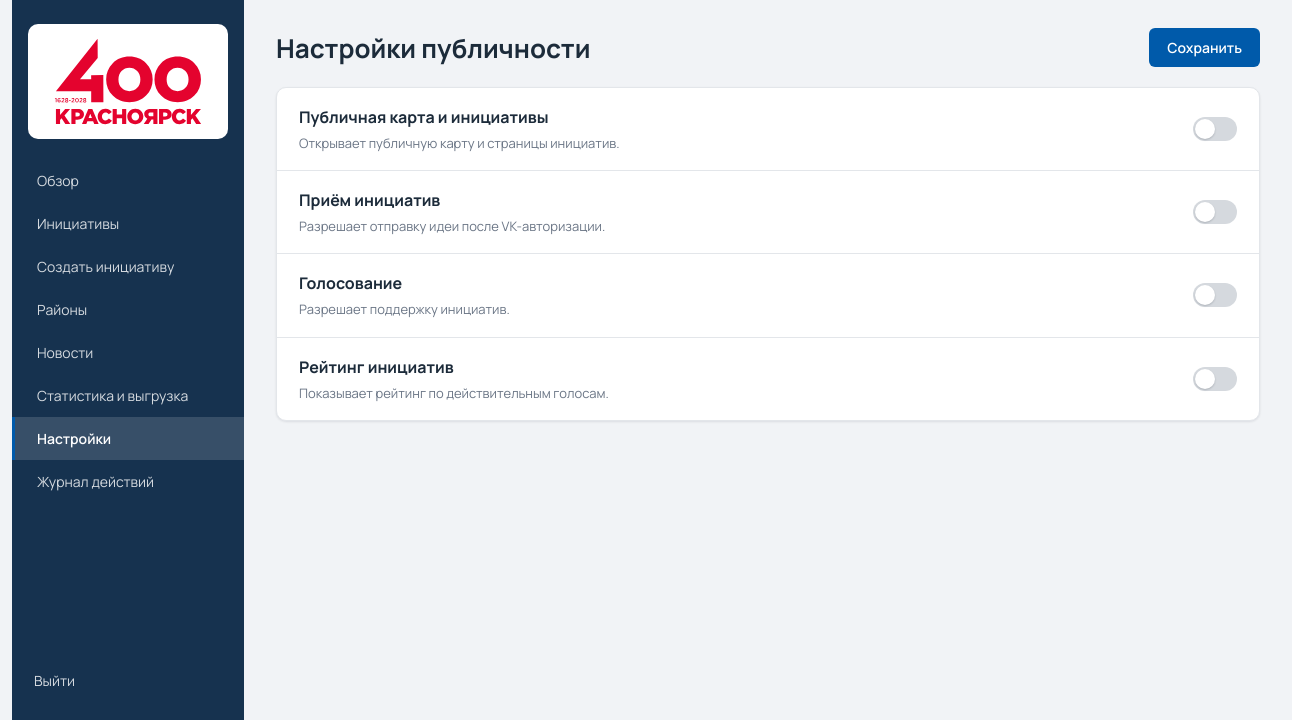
Test: admin settings › keeps chosen values when save fails
Click the switch named "Публичная карта и инициативы".
click(1215, 129)  # box 1193,117 -> 1237,141
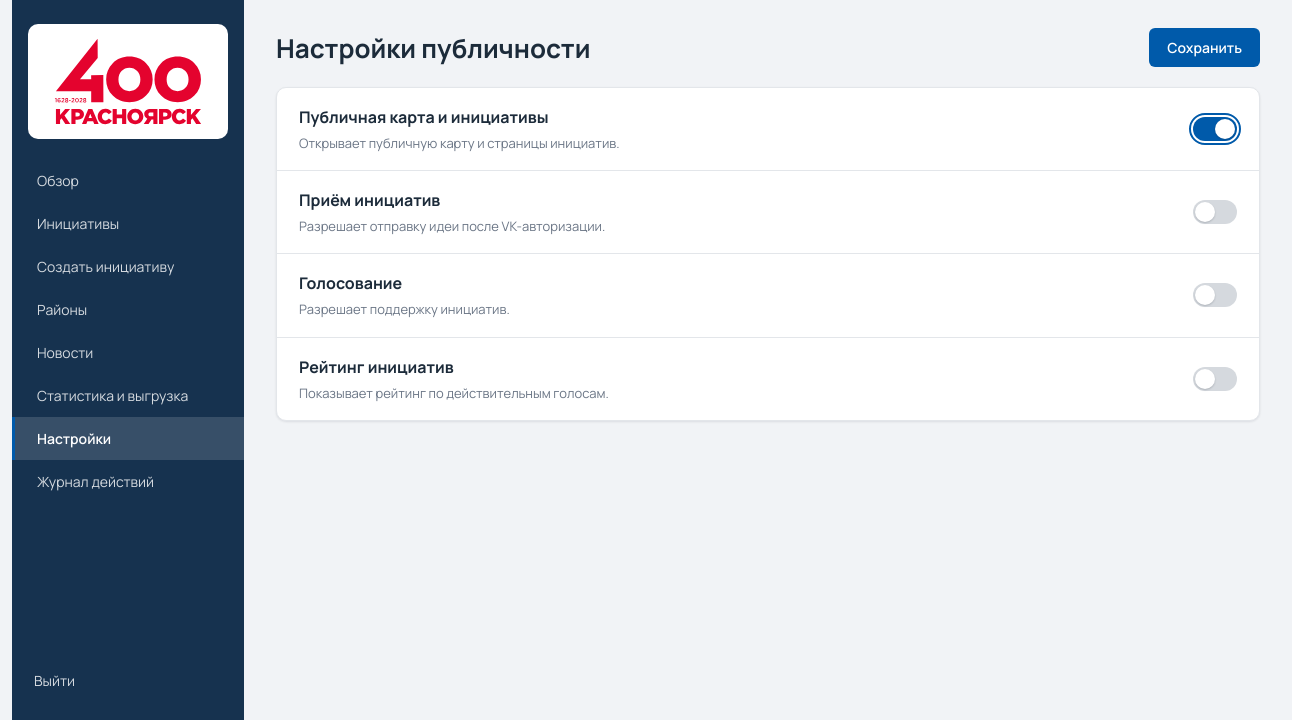
Click the button "Сохранить".
click(1205, 48)  # box 1149,28 -> 1260,67
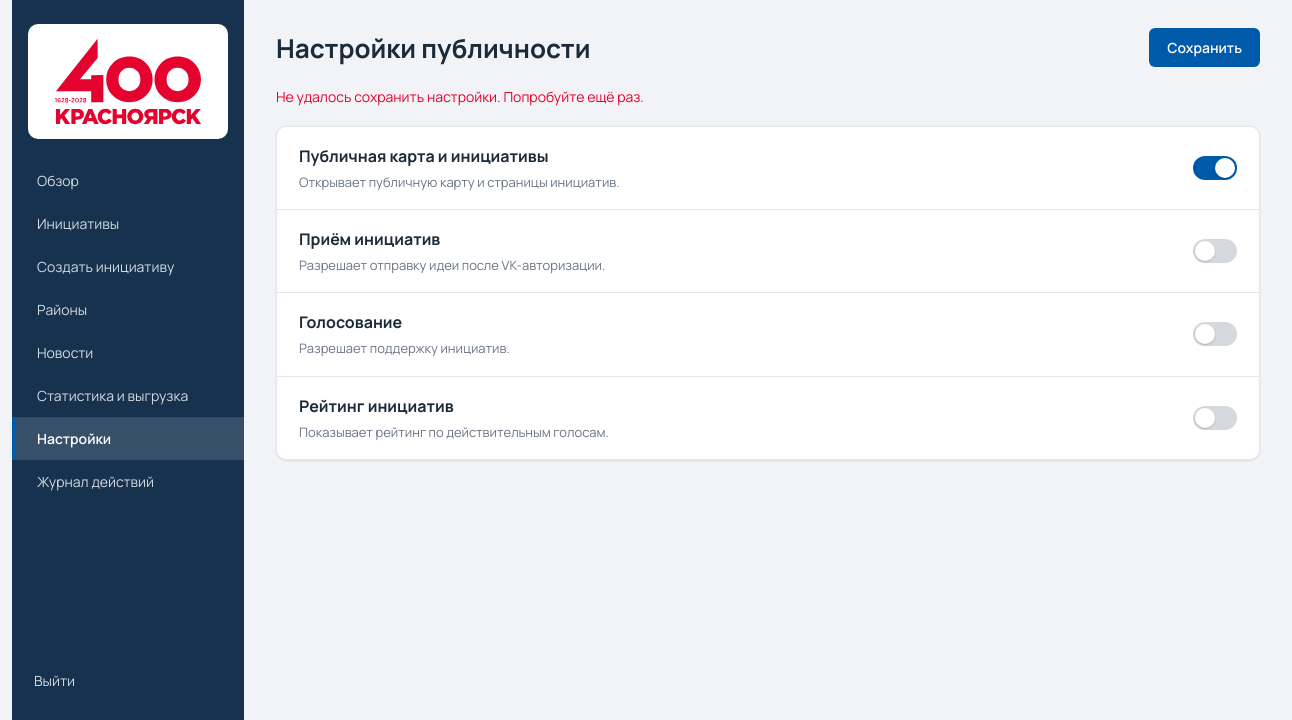
Check: the message reads "Не удалось сохранить настройки. Попробуйте ещё раз.", box 276,87 -> 644,106
